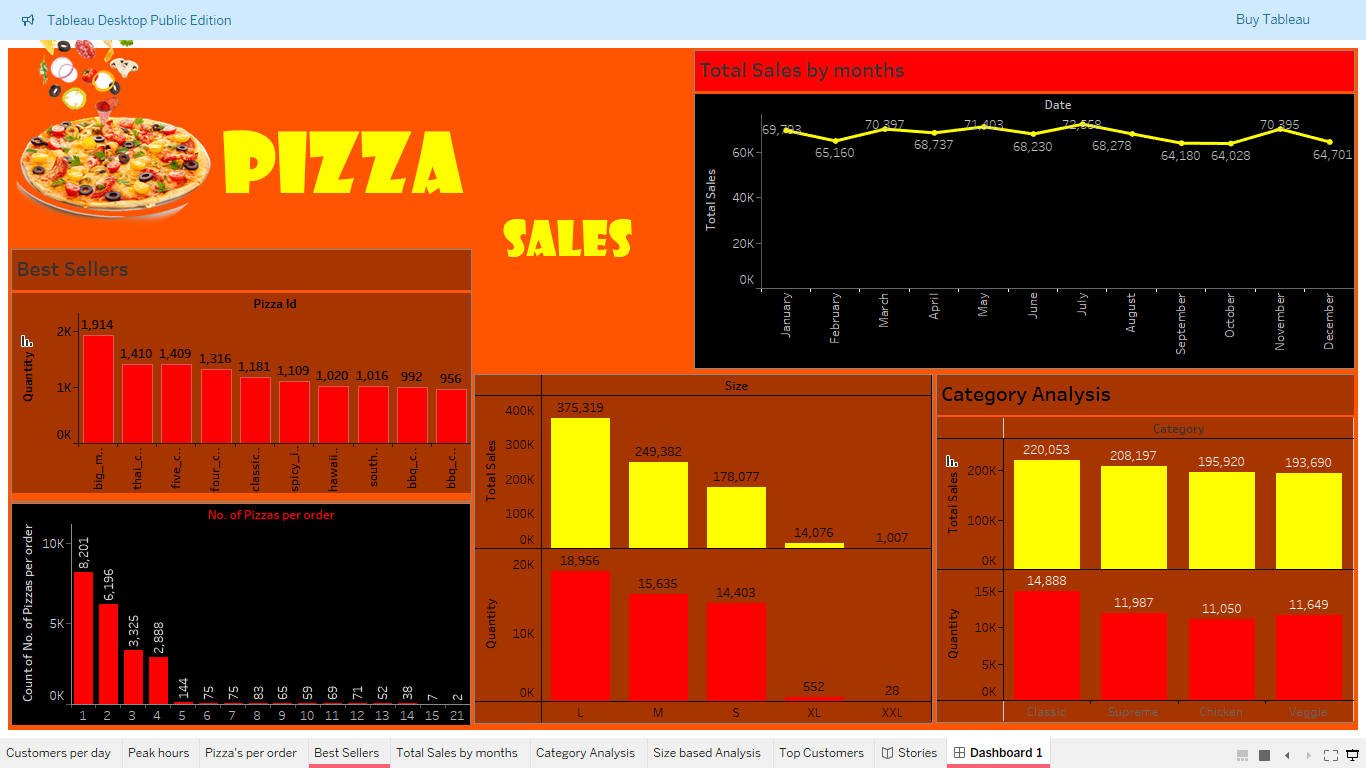

The page's visual inventory and layout, read from the dashboard file:
{"tool":"tableau","page":{"name":"Dashboard 1","canvas":[1000,1000],"units":"permille","ordinal":0},"visuals":[{"type":"worksheet","title":"Total Sales by months","mark":"Line","rows":["Calculation_678354734658785280"],"cols":["date"],"box":[508.2,14.5,484,456.5]},{"type":"text","box":[160.2,27.2,564.5,289.9]},{"type":"text","box":[366.2,239.1,129.9,83.3]},{"type":"worksheet","title":"Best Sellers","mark":"Automatic","rows":["quantity"],"cols":["pizza_id"],"box":[7.8,298.9,337.7,362.3]},{"type":"worksheet","title":"Size based Analysis","mark":"Bar","rows":["Calculation_678354734658785280","quantity"],"cols":["size"],"box":[347.2,478.3,335.9,501.8]},{"type":"worksheet","title":"Category Analysis","mark":"Bar","rows":["Calculation_678354734658785280","quantity"],"cols":["category"],"box":[684.9,478.3,306.5,500]},{"type":"worksheet","title":"Top Customers","mark":"Bar","rows":["Calculation_678354734665273345"],"cols":["Calculation_678354734665273345"],"box":[7.8,663,336.8,318.8]}]}

Visuals, with their boxes on the dashboard's canvas, which has no fixed pixel size, in thousandths of its width and height (x1, y1, x2, y2). These are canvas units, not pixel positions in the 1366x768 screenshot, which may show the page scaled, cropped or inside an application window:
"Total Sales by months" worksheet (Line marks): BBox(508, 14, 992, 471)
text: BBox(160, 27, 725, 317)
text: BBox(366, 239, 496, 322)
"Best Sellers" worksheet: BBox(8, 299, 346, 661)
"Size based Analysis" worksheet (Bar marks): BBox(347, 478, 683, 980)
"Category Analysis" worksheet (Bar marks): BBox(685, 478, 991, 978)
"Top Customers" worksheet (Bar marks): BBox(8, 663, 345, 982)
